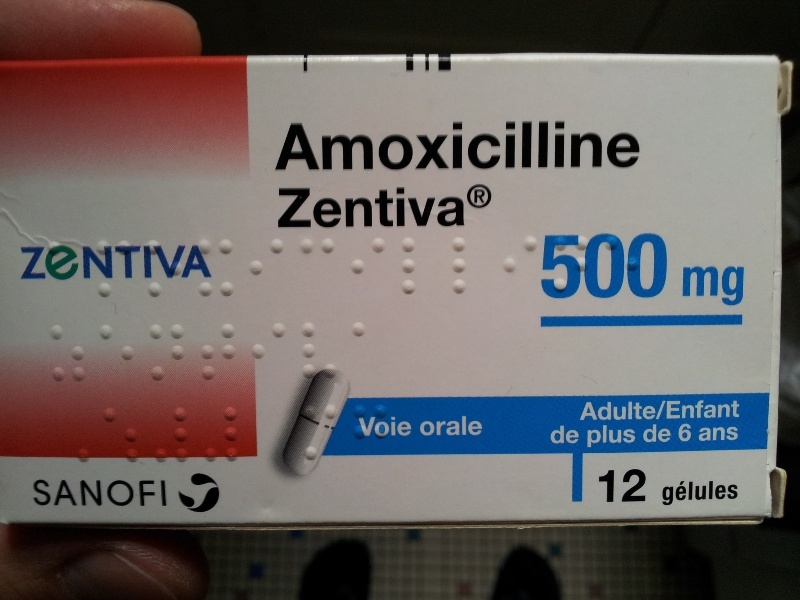text: (545, 231, 560, 301), (561, 231, 576, 301), (577, 231, 592, 301), (593, 231, 608, 301), (609, 231, 624, 301), (625, 231, 640, 301), (641, 231, 656, 301), (657, 231, 670, 301), (289, 118, 304, 174), (305, 118, 320, 174), (321, 118, 336, 174), (337, 118, 352, 174), (353, 118, 368, 174), (369, 118, 384, 174), (385, 118, 400, 174), (401, 118, 416, 174), (417, 118, 432, 174), (433, 118, 448, 174), (449, 118, 464, 174), (465, 118, 480, 174), (481, 118, 496, 174), (497, 118, 512, 174), (513, 118, 528, 174), (529, 118, 544, 174), (545, 118, 560, 174), (561, 118, 576, 174), (577, 118, 592, 174), (593, 118, 608, 174), (609, 118, 624, 174), (625, 118, 640, 174), (289, 182, 304, 229), (305, 182, 320, 229), (321, 182, 336, 229), (337, 182, 352, 229), (353, 182, 368, 229), (369, 182, 384, 229), (385, 182, 400, 229), (401, 182, 416, 229), (417, 182, 432, 229), (433, 182, 448, 229), (449, 182, 464, 229), (689, 263, 704, 306), (705, 263, 720, 306), (721, 263, 736, 306), (33, 245, 48, 282), (49, 245, 64, 282), (65, 245, 80, 282), (81, 245, 96, 282), (97, 245, 112, 282), (113, 245, 128, 282), (129, 245, 144, 282), (145, 245, 160, 282), (161, 245, 176, 282), (177, 245, 192, 282), (193, 245, 208, 282), (609, 468, 624, 504), (625, 468, 640, 504), (19, 245, 32, 282), (33, 479, 48, 508), (49, 479, 64, 508), (65, 479, 80, 508), (81, 479, 96, 508), (97, 479, 112, 508), (113, 479, 128, 508), (129, 479, 144, 508), (145, 479, 160, 508), (279, 182, 288, 229), (538, 231, 544, 301), (673, 479, 688, 506), (689, 479, 704, 506), (705, 479, 720, 506), (721, 479, 736, 506), (597, 468, 608, 504), (593, 424, 608, 450), (609, 424, 624, 450), (737, 263, 746, 306), (433, 415, 448, 438), (449, 415, 464, 438), (465, 415, 480, 438), (593, 399, 608, 422), (609, 399, 624, 422), (625, 399, 640, 422), (641, 399, 656, 422), (657, 399, 672, 422), (673, 399, 688, 422), (689, 399, 704, 422), (705, 399, 720, 422), (721, 399, 736, 422), (369, 415, 384, 438), (385, 415, 400, 438), (561, 422, 576, 445), (625, 424, 638, 450), (418, 415, 432, 438), (657, 423, 672, 444), (681, 263, 688, 306), (661, 479, 672, 506), (642, 423, 656, 444), (401, 415, 413, 438), (705, 425, 720, 443), (721, 425, 736, 443), (358, 415, 368, 438), (641, 118, 645, 174), (641, 468, 647, 504), (678, 421, 688, 442), (551, 422, 560, 445), (161, 479, 168, 508), (285, 118, 288, 174), (585, 399, 592, 422), (586, 424, 592, 450), (209, 245, 213, 282), (474, 189, 480, 205), (465, 182, 467, 229), (737, 399, 741, 422), (577, 422, 581, 445), (699, 425, 704, 443), (689, 421, 693, 442), (481, 189, 486, 205), (481, 415, 484, 438), (737, 425, 740, 443), (737, 479, 738, 506)
